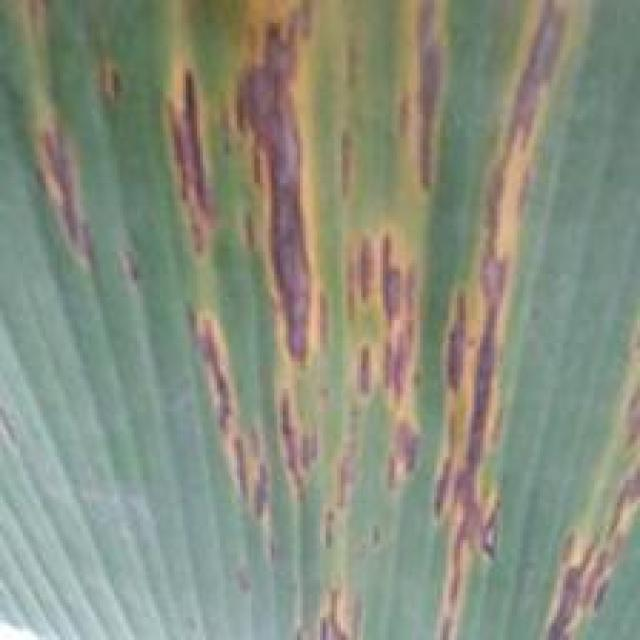Early_leaf_spot: (421, 0, 640, 640), (214, 0, 349, 500), (306, 193, 446, 498), (355, 0, 474, 210), (179, 285, 275, 539), (16, 108, 112, 290), (152, 47, 222, 257), (277, 568, 371, 640), (76, 42, 134, 115), (7, 0, 64, 66)
